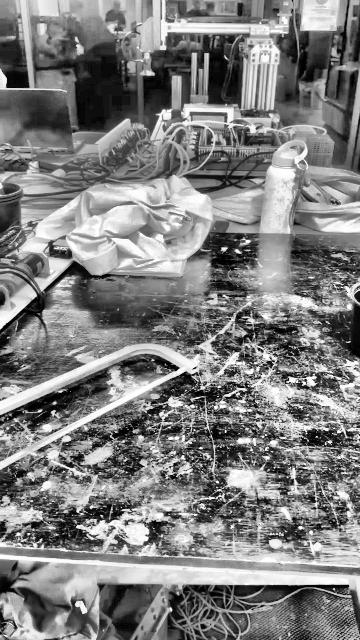pot: (350, 284, 359, 357)
